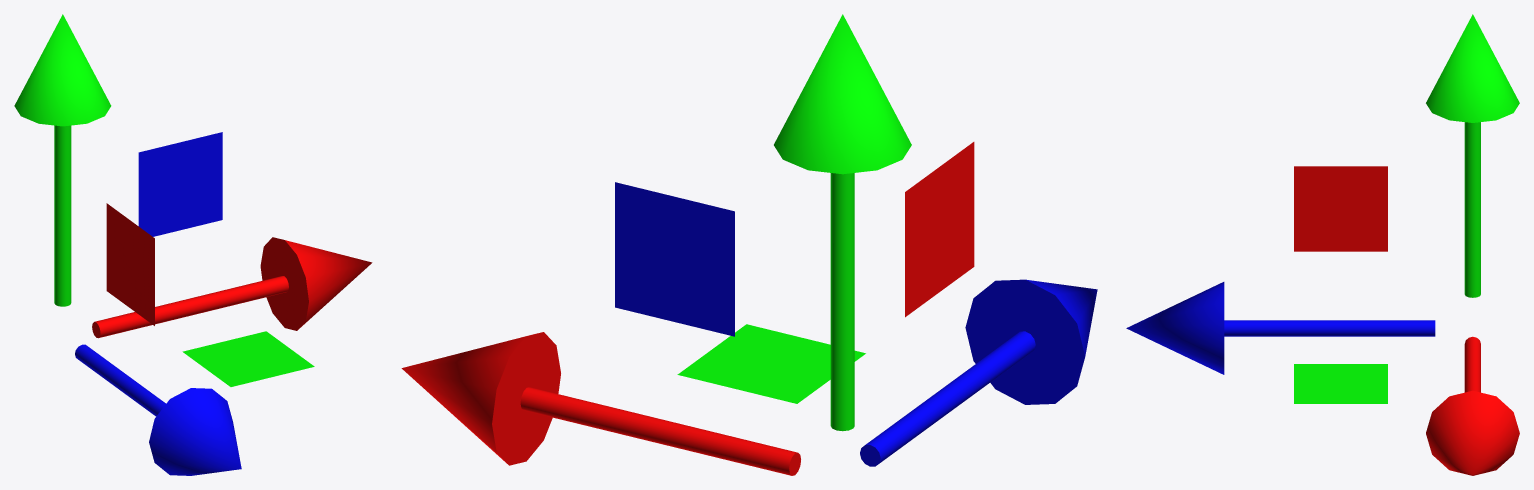
Rendered from gizmo_translate.obj.
3 views of the same model, side by side, from view 1: azimuth 30°, elevation 25°; view 2: azimuth 150°, elevation 25°; view 3: azimuth 270°, elevation 25° (orthographic). The views are drawn at different scales.
Parts seen in each view (by area): view 1: axis_y.001, axis_x, axis_z, plane_xy, plane_yz, plane_xz; view 2: axis_y.001, axis_x, axis_z, plane_xy, plane_yz, plane_xz; view 3: axis_y.001, axis_z, plane_yz, axis_x, plane_xz.
Part boxes in pixels (bbox=[...]): axis_y.001: bbox=[14, 14, 111, 306]; axis_x: bbox=[92, 237, 372, 338]; axis_z: bbox=[75, 344, 241, 475]; plane_xy: bbox=[138, 132, 222, 236]; plane_yz: bbox=[106, 203, 154, 325]; plane_xz: bbox=[182, 331, 314, 386]; axis_y.001: bbox=[774, 14, 911, 431]; axis_x: bbox=[401, 332, 800, 475]; axis_z: bbox=[860, 279, 1097, 466]; plane_xy: bbox=[615, 182, 734, 336]; plane_yz: bbox=[905, 142, 974, 317]; plane_xz: bbox=[677, 324, 865, 403]; axis_y.001: bbox=[1426, 14, 1519, 297]; axis_z: bbox=[1126, 282, 1435, 374]; plane_yz: bbox=[1294, 166, 1387, 251]; axis_x: bbox=[1426, 336, 1519, 475]; plane_xz: bbox=[1294, 364, 1387, 403].
Size of the model in its own units: 1.14 by 1.14 by 1.14.
